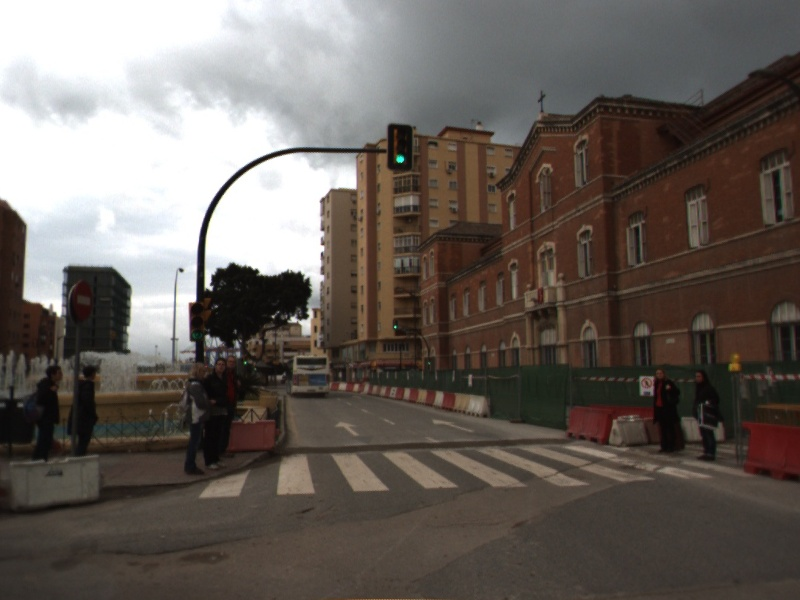STRAIGHT: (430, 416, 478, 434), (333, 420, 361, 438)
